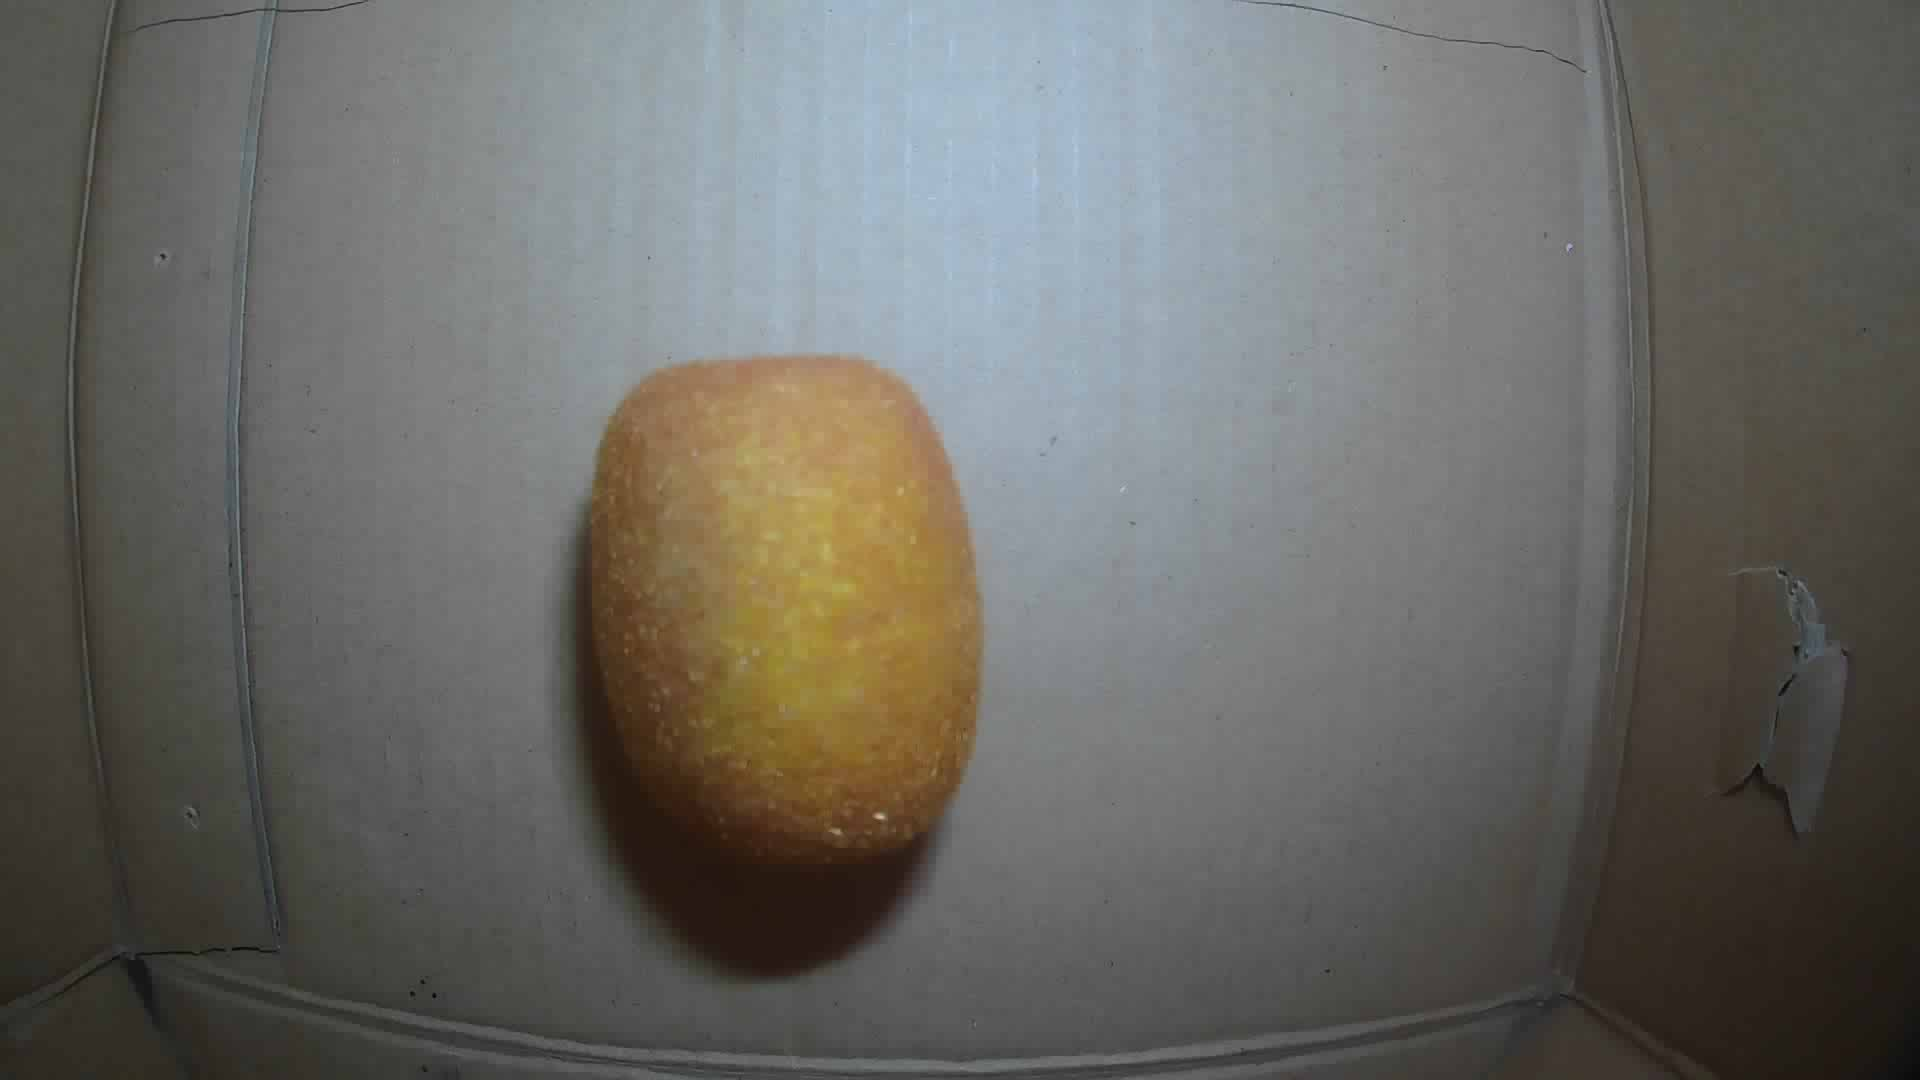kiwi: (589, 353, 984, 868)
